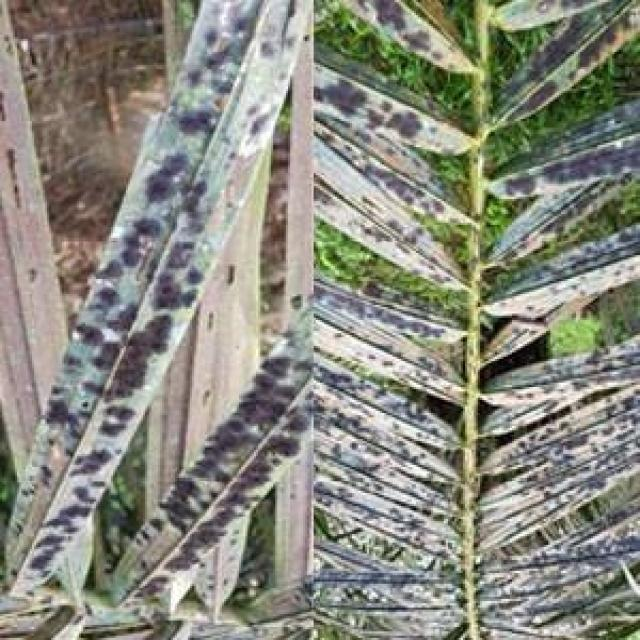Sooty Mold: (0, 0, 638, 638), (0, 0, 318, 638)
